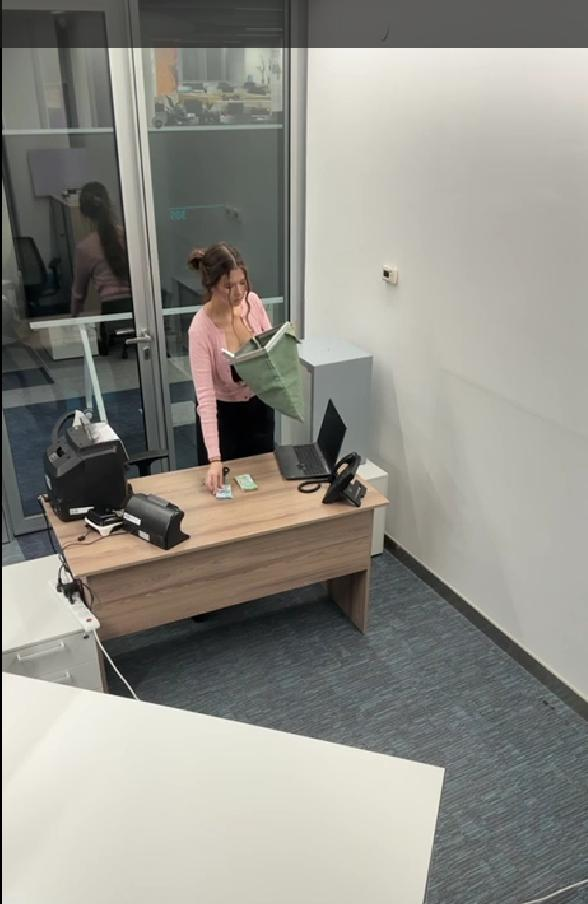cash-in-transit bag: (214, 327, 316, 420)
cash_stack: (235, 464, 261, 498), (216, 476, 237, 503)
counter: (30, 410, 141, 506)
uv_lamp: (108, 495, 198, 552)
